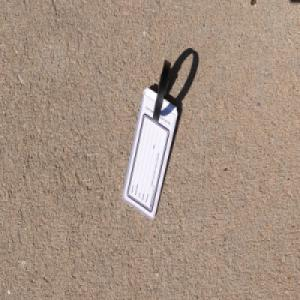LuggageTag: (122, 56, 179, 219)
